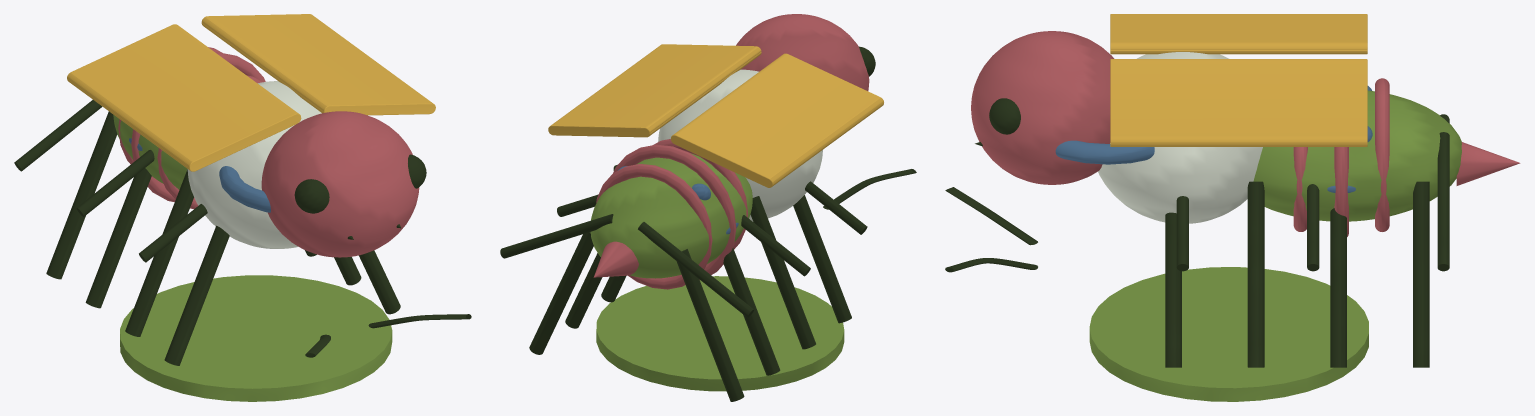
File: 0030_昆虫图鉴_切叶蚁.glb
The picture shows the model from 3 angles, left to right: view 1: azimuth 30°, elevation 25°; view 2: azimuth 150°, elevation 25°; view 3: azimuth 270°, elevation 25°; orthographic projection. The views are drawn at different scales.
Parts seen in each view (by area): view 1: card_0030; view 2: card_0030; view 3: card_0030.
Boxes of the visible parts, box(x1,y1,x2,y2) form: card_0030: box(14, 14, 471, 401); card_0030: box(500, 14, 916, 401); card_0030: box(945, 14, 1520, 401).
Bounding box in the file's own units: 1 × 1 × 1.73.
